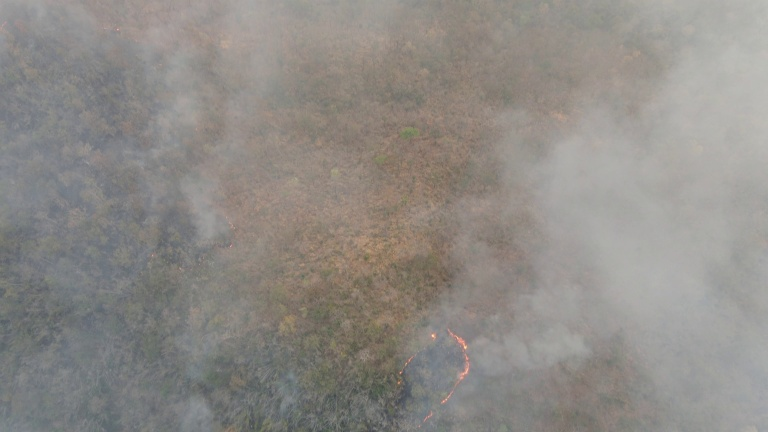fire: (390, 320, 478, 432)
smoke: (416, 2, 768, 432), (1, 1, 284, 430)
